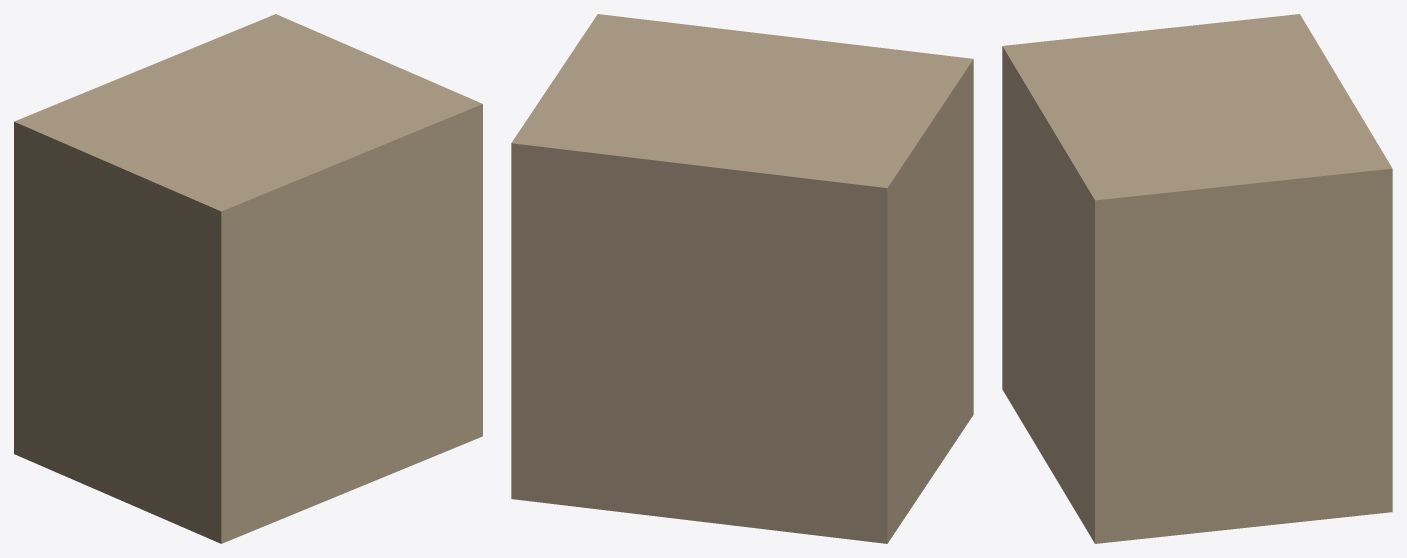
File: bld_99872074.dae
3 views of the same model, side by side, from view 1: azimuth 30°, elevation 25°; view 2: azimuth 150°, elevation 25°; view 3: azimuth 270°, elevation 25° (orthographic). The views are drawn at different scales.
Visible parts, largest first — view 1: bld_99872074; view 2: bld_99872074; view 3: bld_99872074.
Part boxes in pixels (x1,y1,x2,y2): bld_99872074: [14, 14, 482, 543]; bld_99872074: [511, 14, 973, 543]; bld_99872074: [1002, 14, 1392, 543].
Size of the model in its own units: 9.31 by 8.23 by 8.
